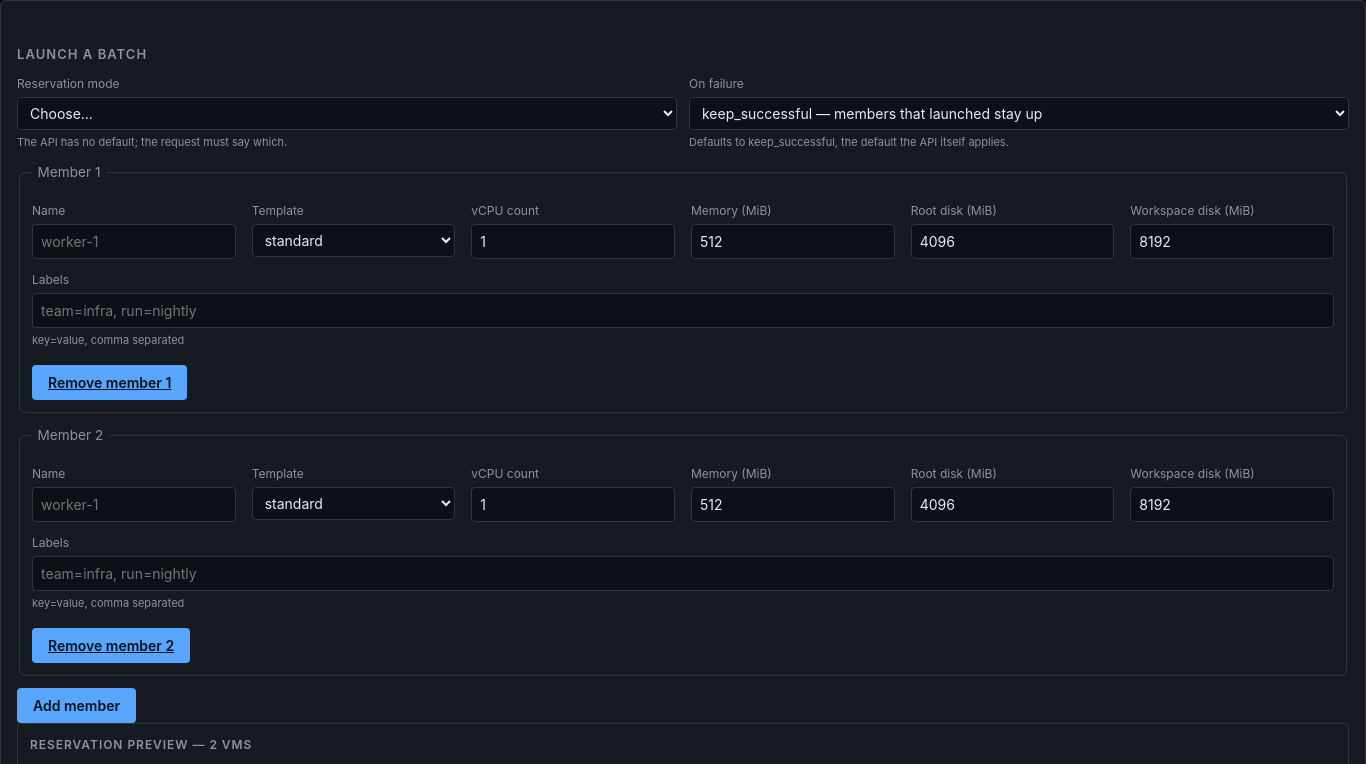
Test: LaunchBatch published limits › previews the whole batch reservation, multiplied by the member count
Click the button "Add member". click: (76, 705)
box: [17,688,136,723]
(page scrolled)
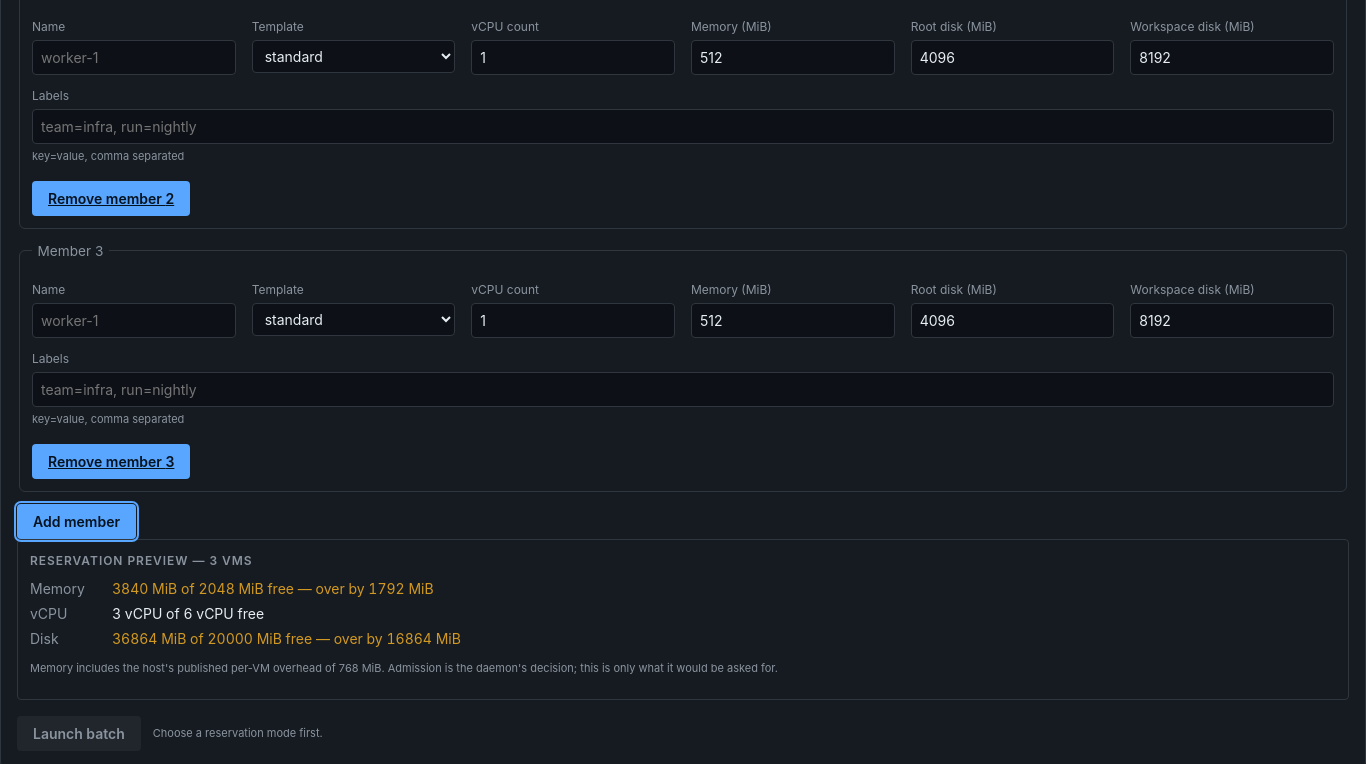
Check: the element with test id "batch-preview-memory" shows "3840 MiB of 2048 MiB free", box [30,580,434,597]
